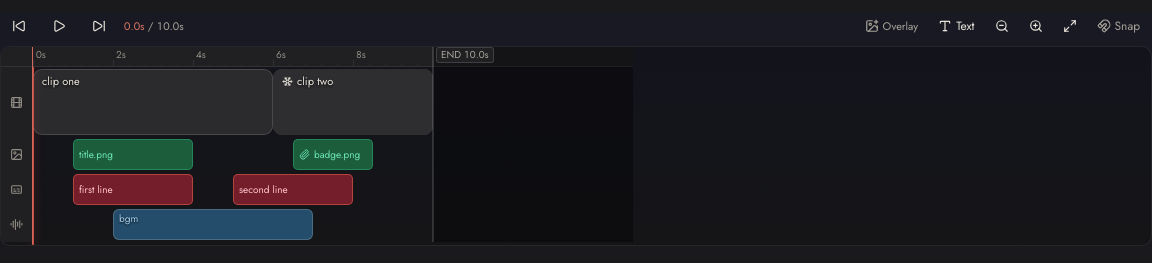
it: 浮動時長/起點 badge（Plan 11 Task 2 裁決 2） › move 拖曳中 badge 顯示起點時間（不是時長/增減格式）
Press the mouse on the element showing "first line" at (133, 190), box [73,174,193,205]
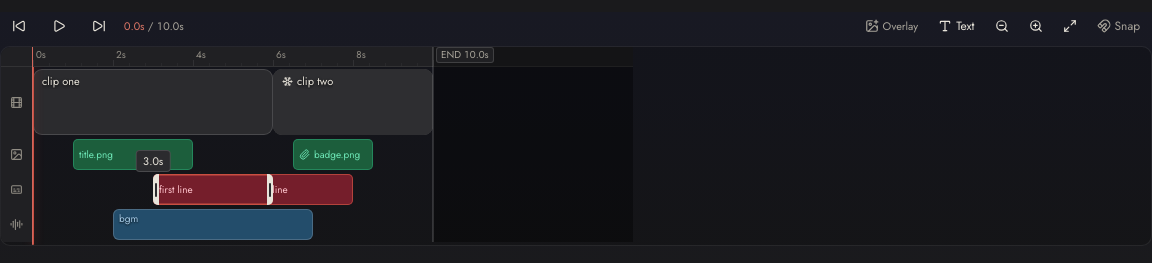
Expected: the text "3.0s" is shown, [136,150,170,172]
